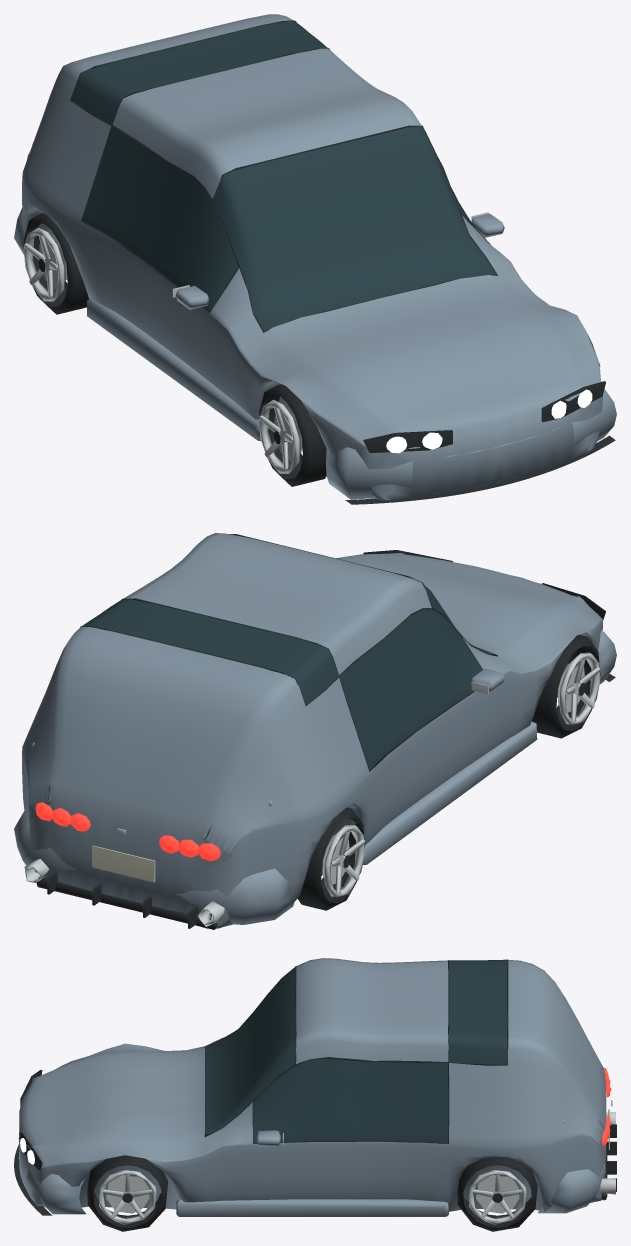
The model's file is caldorva-neskal.glb.
The picture shows the model from 3 angles, top to bottom: view 1: azimuth 30°, elevation 25°; view 2: azimuth 150°, elevation 25°; view 3: azimuth 270°, elevation 25°; orthographic projection. The views are drawn at different scales.
Visible parts, largest first — view 1: scocca, cristallo_ant, cofano, tetto, cristallo_sx, porta_sx, cristallo_post, minigonna_sx, paraurti_ant, portellone, ruota_ant_sx_gomma, ruota_post_sx_gomma (+10 smaller); view 2: portellone, scocca, tetto, cristallo_sx, cofano, cristallo_post, porta_sx, paraurti_post, minigonna_sx, ruota_ant_sx_gomma, ruota_post_sx_gomma, targa (+8 smaller); view 3: scocca, tetto, cristallo_dx, cofano, porta_dx, portellone, cristallo_ant, cristallo_post, minigonna_dx, ruota_ant_dx_gomma, ruota_post_dx_gomma, paraurti_post (+12 smaller).
Boxes of the visible parts, bbox=[...] form: scocca: bbox=[22, 90, 602, 502]; cristallo_ant: bbox=[213, 126, 495, 330]; cofano: bbox=[264, 275, 581, 425]; tetto: bbox=[113, 48, 421, 198]; cristallo_sx: bbox=[82, 126, 238, 311]; porta_sx: bbox=[81, 222, 224, 392]; cristallo_post: bbox=[70, 21, 327, 124]; minigonna_sx: bbox=[87, 299, 260, 441]; paraurti_ant: bbox=[326, 389, 616, 499]; portellone: bbox=[51, 14, 293, 99]; ruota_ant_sx_gomma: bbox=[259, 384, 326, 486]; ruota_post_sx_gomma: bbox=[24, 212, 88, 314]; portellone: bbox=[44, 626, 305, 842]; scocca: bbox=[22, 553, 602, 928]; tetto: bbox=[124, 533, 431, 674]; cristallo_sx: bbox=[339, 609, 482, 770]; cofano: bbox=[337, 553, 581, 656]; cristallo_post: bbox=[82, 599, 338, 704]; porta_sx: bbox=[365, 685, 500, 845]; paraurti_post: bbox=[14, 808, 293, 924]; minigonna_sx: bbox=[363, 721, 537, 864]; ruota_ant_sx_gomma: bbox=[532, 634, 600, 738]; ruota_post_sx_gomma: bbox=[297, 807, 364, 910]; targa: bbox=[92, 845, 155, 882]; scocca: bbox=[19, 1037, 606, 1211]; tetto: bbox=[296, 958, 448, 1063]; cristallo_dx: bbox=[253, 1058, 448, 1143]; cofano: bbox=[40, 1047, 204, 1150]; porta_dx: bbox=[238, 1141, 448, 1205]; portellone: bbox=[508, 959, 606, 1130]; cristallo_ant: bbox=[205, 967, 295, 1135]; cristallo_post: bbox=[448, 959, 507, 1064]; minigonna_dx: bbox=[176, 1199, 448, 1216]; ruota_ant_dx_gomma: bbox=[87, 1155, 167, 1231]; ruota_post_dx_gomma: bbox=[457, 1156, 537, 1231]; paraurti_post: bbox=[538, 1164, 605, 1213].
Bounding box in the file's own units: 2.4 × 1.68 × 5.03.
